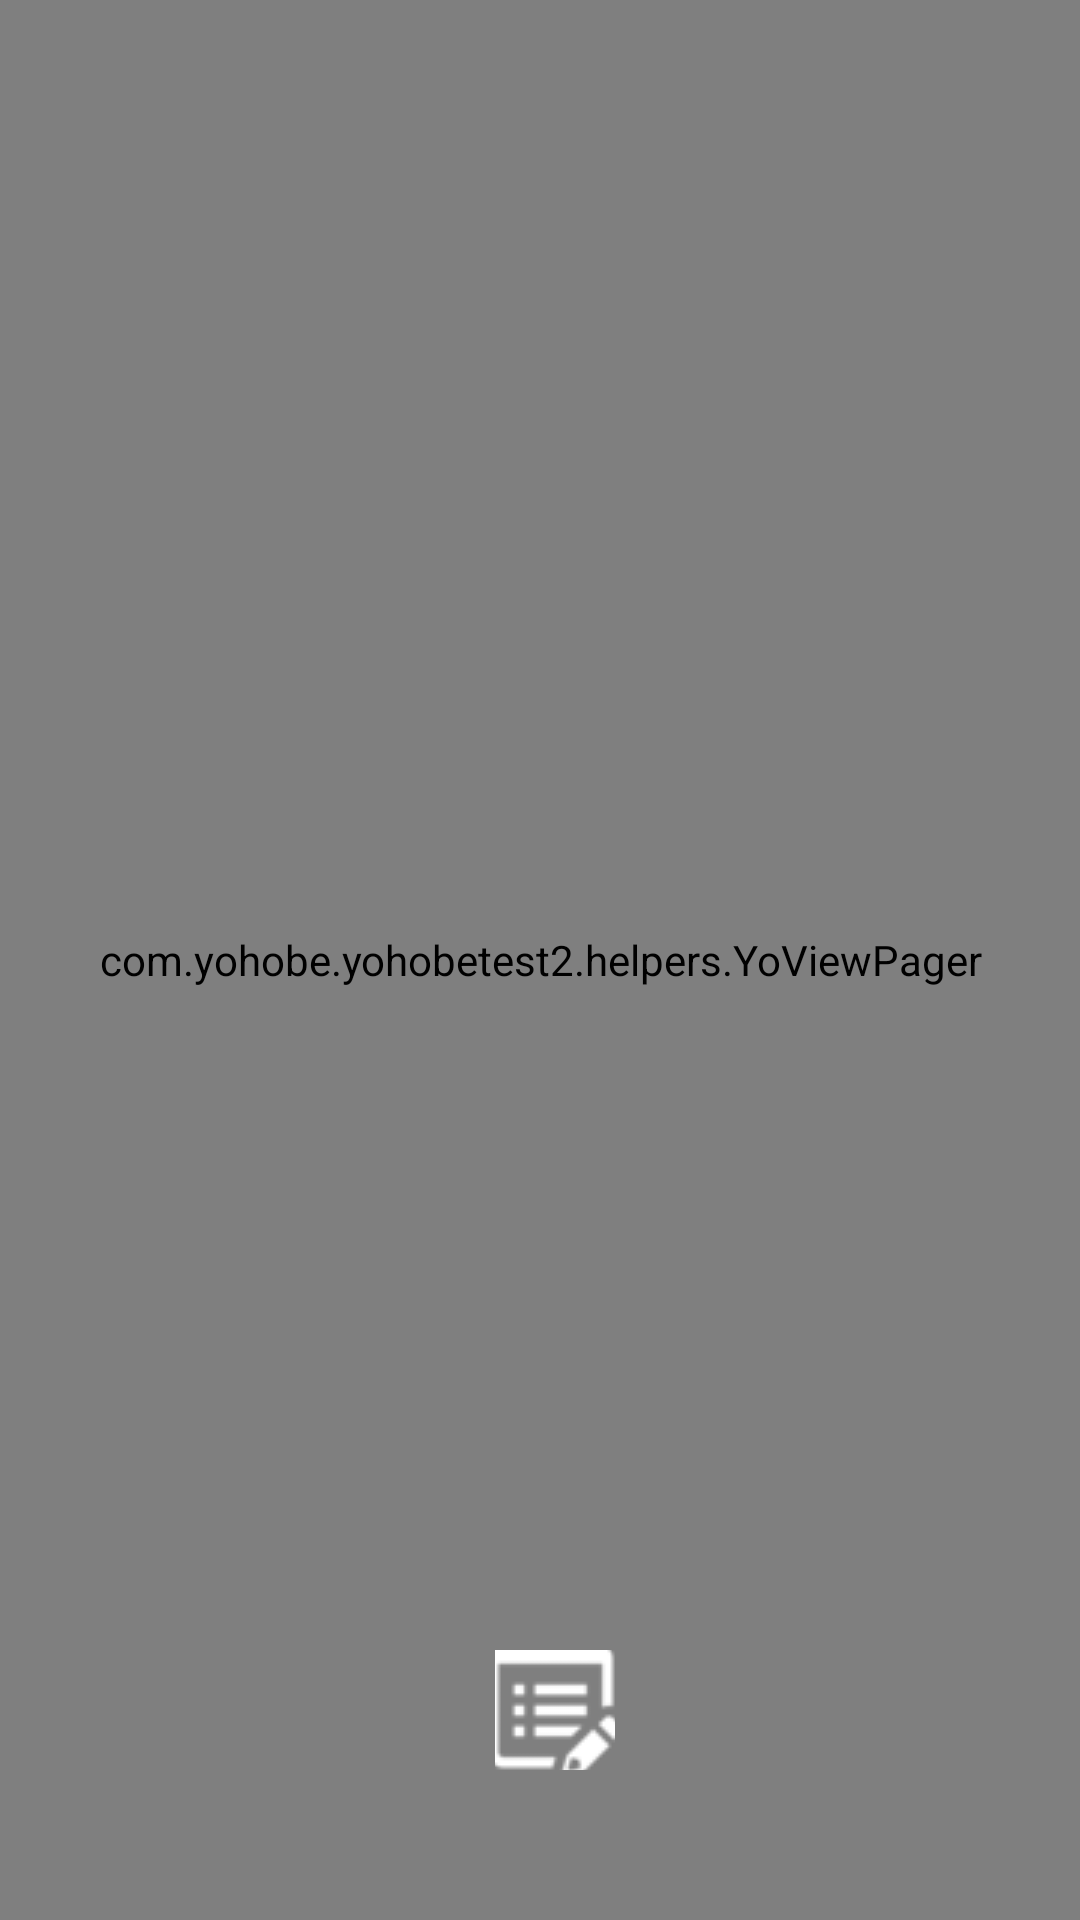

Icon click points for this 1080px×1920px phone screenshot, format point (x, y):
edit mobile: point (555, 1710)
